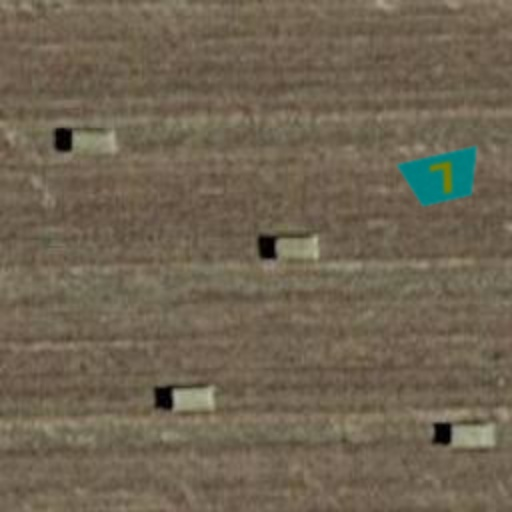trapezoid: (392, 128, 492, 228)
